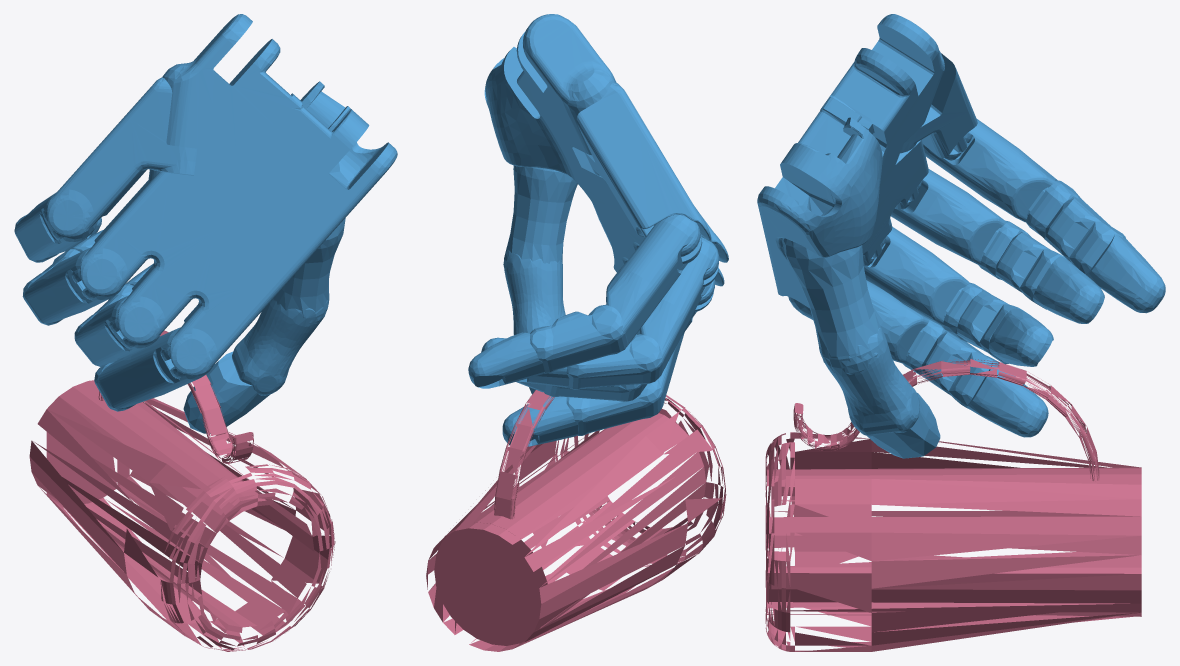
3 views of the same model, side by side, from view 1: azimuth 30°, elevation 25°; view 2: azimuth 150°, elevation 25°; view 3: azimuth 270°, elevation 25° (orthographic). The views are drawn at different scales.
Parts seen in each view (by area): view 1: 8; view 2: 8; view 3: 8.
Part boxes in pixels (x1,y1,x2,y2): 8: (14, 14, 397, 651); 8: (426, 14, 728, 651); 8: (757, 14, 1165, 651).
Size of the model in its own units: 0.1206 by 0.2362 by 0.1349.
